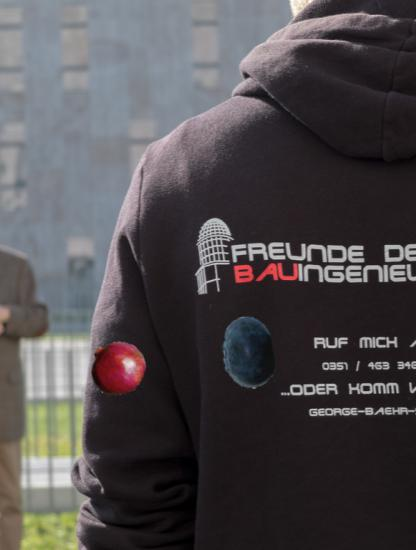Blueberry: (211, 316, 285, 390)
Pomegranate: (89, 340, 146, 397)
